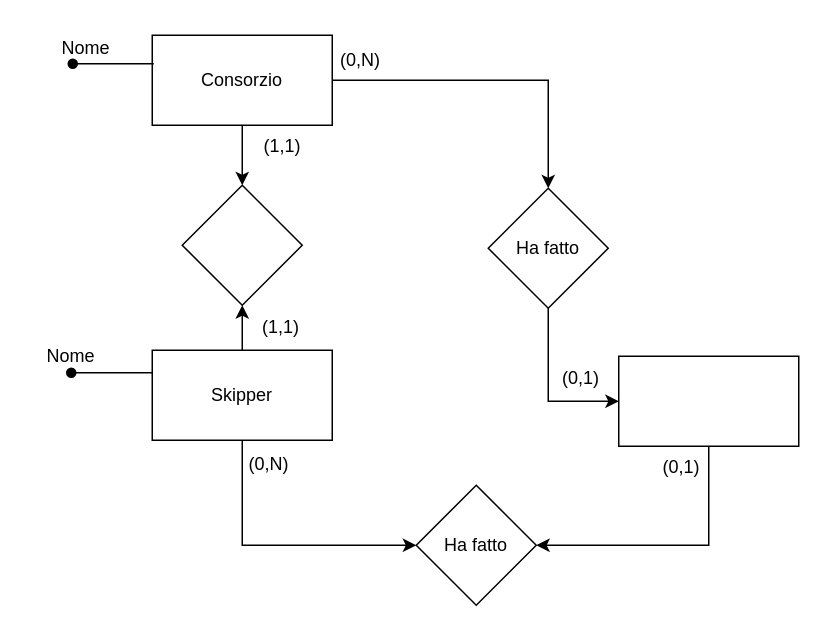
The diagram is 825 pixels wide and 632 high, and some of its shapes have lost their labels. The centre of each missing label's shape, as x and y in pixels:
"HA" belongs at point 241,244.
"Regata storica" belongs at point 708,400.
